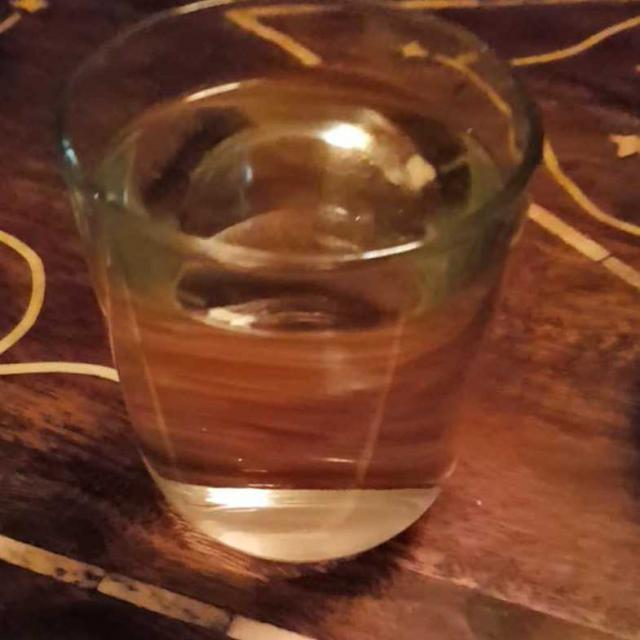water: (84, 57, 523, 556)
